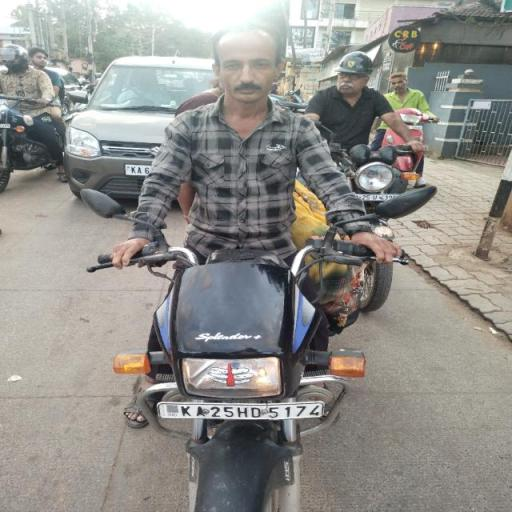bike: (86, 13, 416, 512)
numberplate: (157, 402, 326, 420)
withouthelmet: (216, 27, 286, 103)
